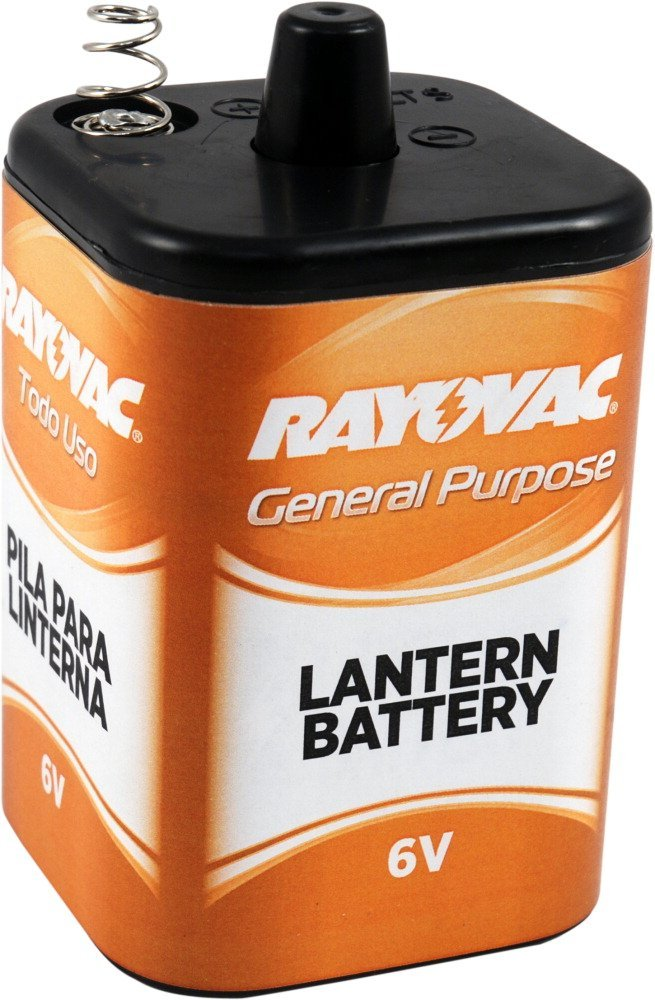6V: (36, 16, 620, 992)
